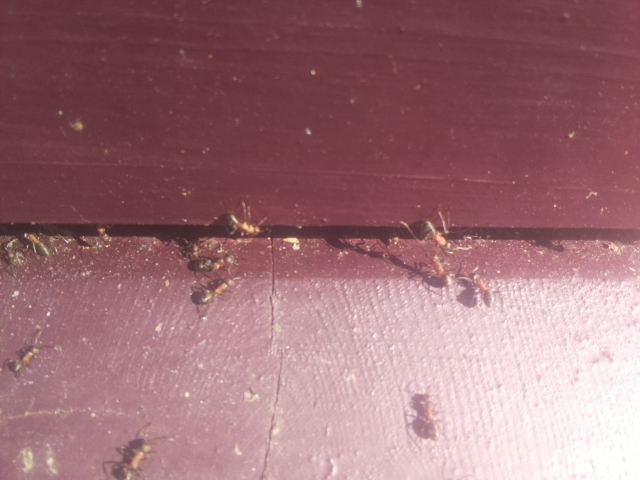ant: (186, 270, 247, 307), (408, 386, 441, 450), (113, 435, 156, 480), (0, 340, 50, 378), (418, 214, 456, 257), (225, 209, 268, 240), (19, 228, 54, 261), (182, 253, 228, 277), (469, 268, 494, 308)
